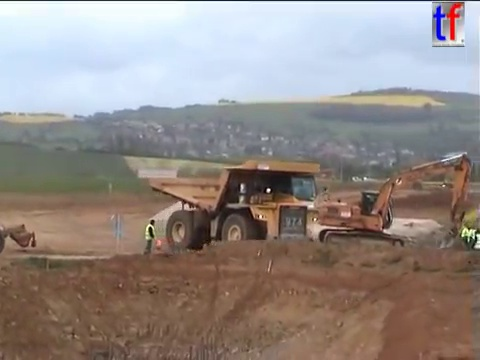excavator: (304, 151, 475, 254)
truck: (147, 158, 330, 256), (410, 178, 422, 191)
wheel loader: (1, 222, 38, 255)
worker: (142, 217, 159, 257), (466, 224, 478, 253), (460, 222, 471, 252), (472, 227, 480, 257)
